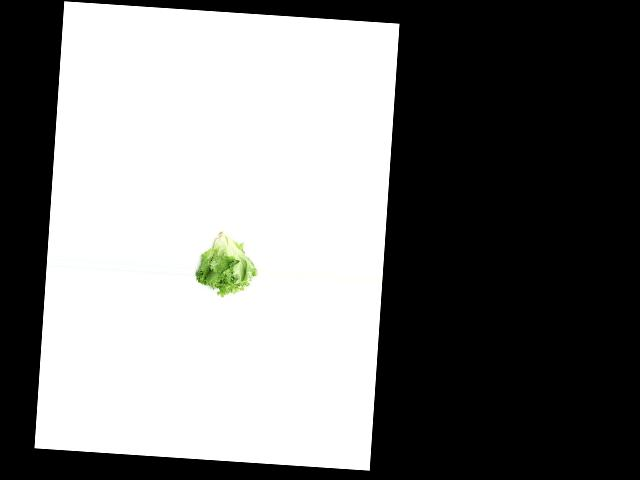lettuce: (193, 229, 261, 297)
